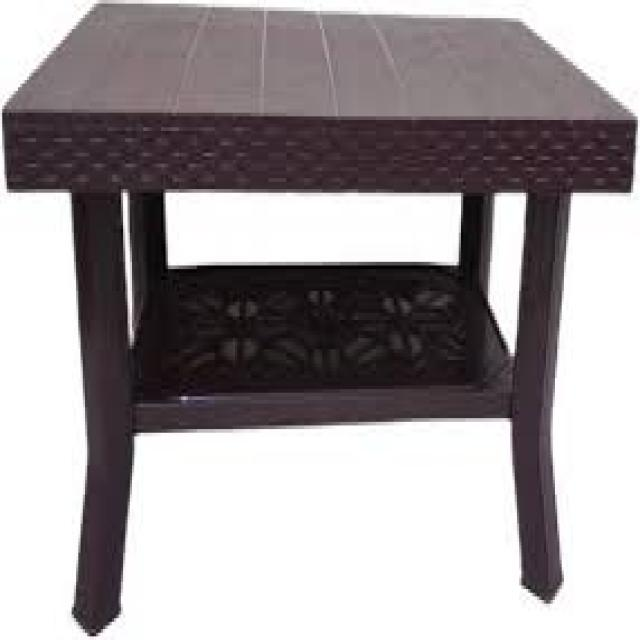obstacle: (7, 11, 636, 530)
